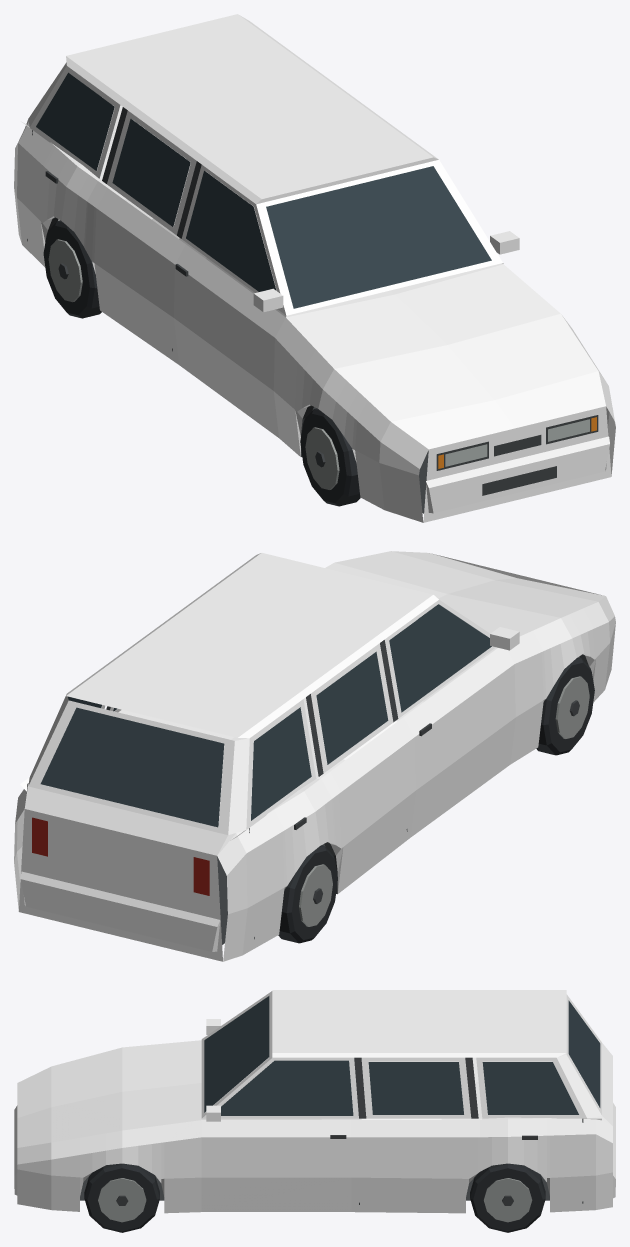
The model's file is hozuki_isaribi.glb.
3 renders of one model, top to bottom at view 1: azimuth 30°, elevation 25°; view 2: azimuth 150°, elevation 25°; view 3: azimuth 270°, elevation 25°, orthographic. The views are drawn at different scales.
Parts seen in each view (by area): view 1: hozuki_isaribi; view 2: hozuki_isaribi; view 3: hozuki_isaribi.
Part boxes in pixels (left/top/right/bottom): hozuki_isaribi: left=14, top=14, right=615, bottom=522; hozuki_isaribi: left=14, top=551, right=615, bottom=961; hozuki_isaribi: left=14, top=990, right=615, bottom=1232.
Bounding box in the file's own units: 1.84 × 1.51 × 4.93.
Materials: 8 (1 with a texture image).
